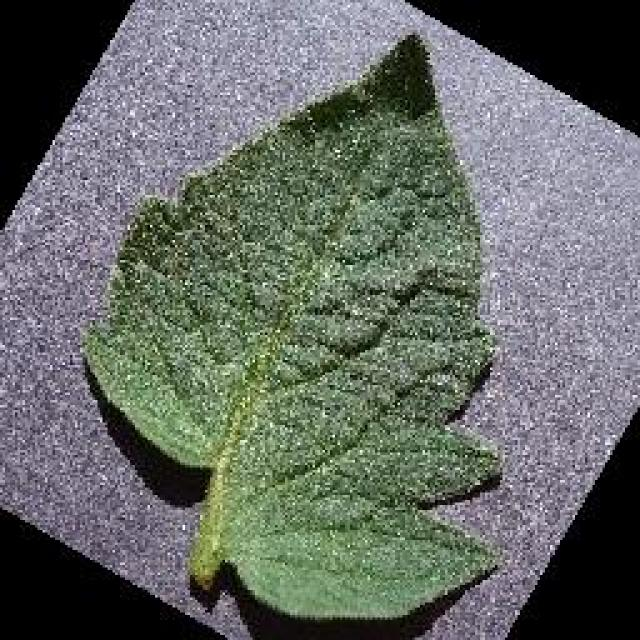Tomato___healthy: (82, 33, 513, 616)
